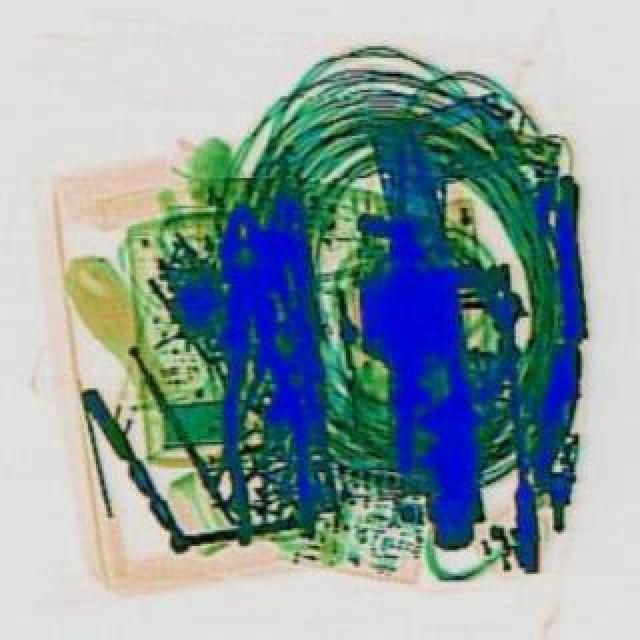wrench: (196, 198, 314, 544)
